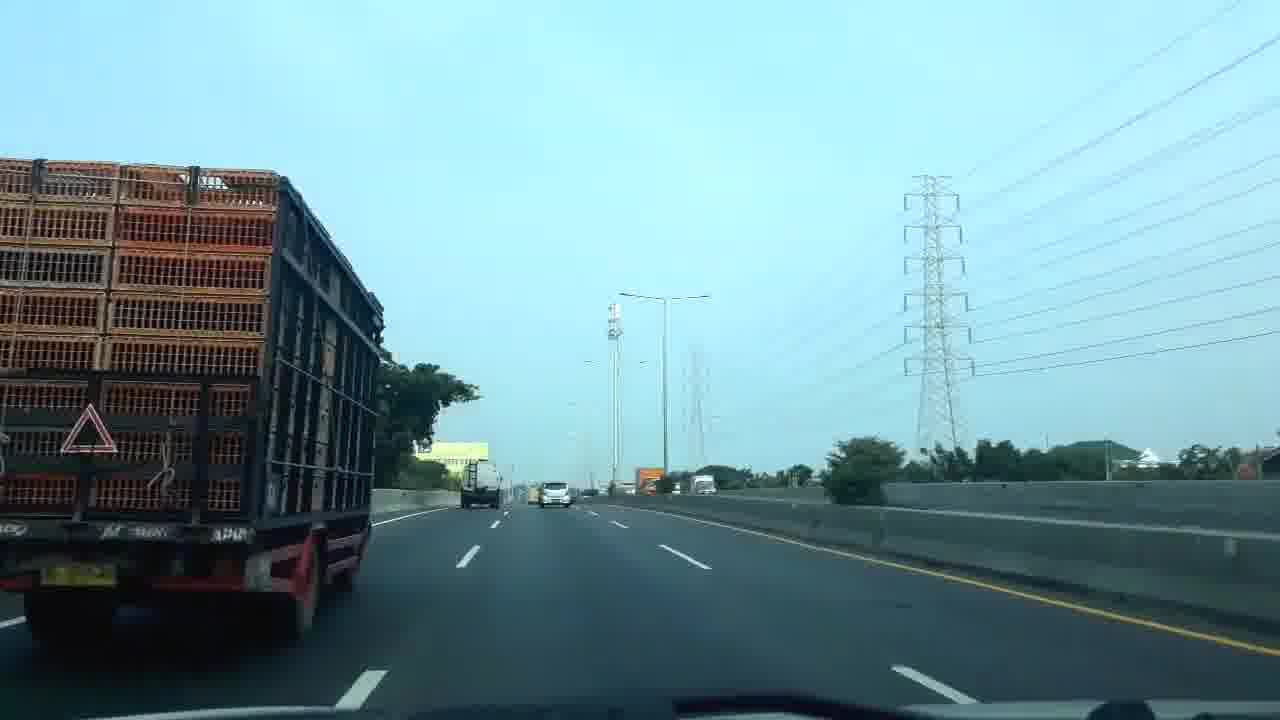plate_positive: (39, 559, 117, 587)
